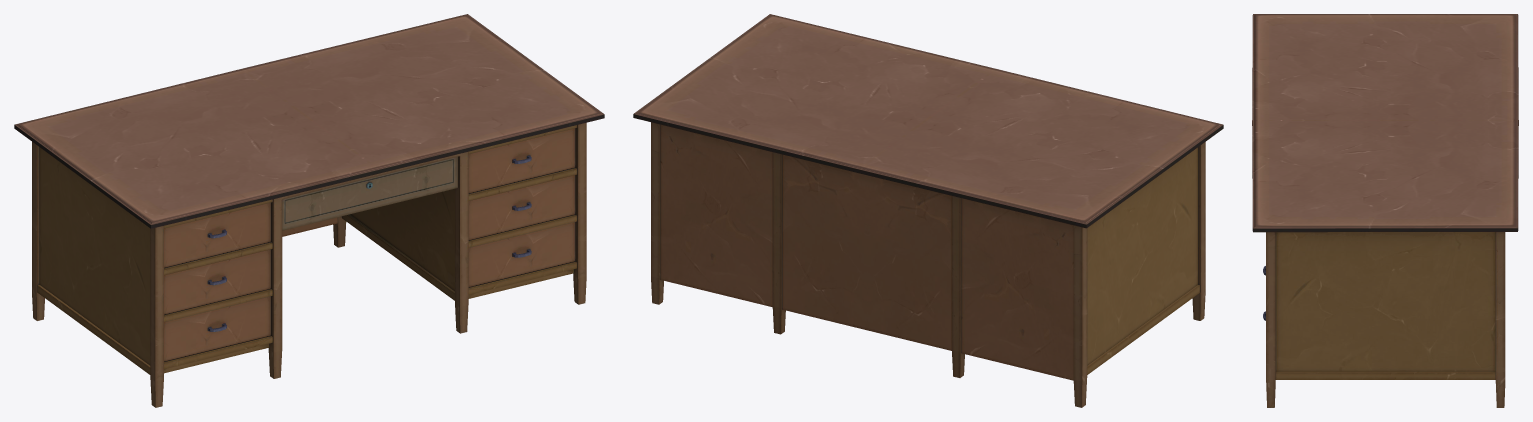
File: Teachers Desk .obj
3 renders of one model, left to right at view 1: azimuth 30°, elevation 25°; view 2: azimuth 150°, elevation 25°; view 3: azimuth 270°, elevation 25°, orthographic. The views are drawn at different scales.
Visible parts, largest first — view 1: Teachers_Desk; view 2: Teachers_Desk; view 3: Teachers_Desk.
Boxes of the visible parts, x1=… form: Teachers_Desk: x1=14, y1=14, x2=604, y2=407; Teachers_Desk: x1=633, y1=14, x2=1223, y2=407; Teachers_Desk: x1=1252, y1=14, x2=1518, y2=407.
Size of the model in its own units: 12.66 by 5.13 by 6.66.
